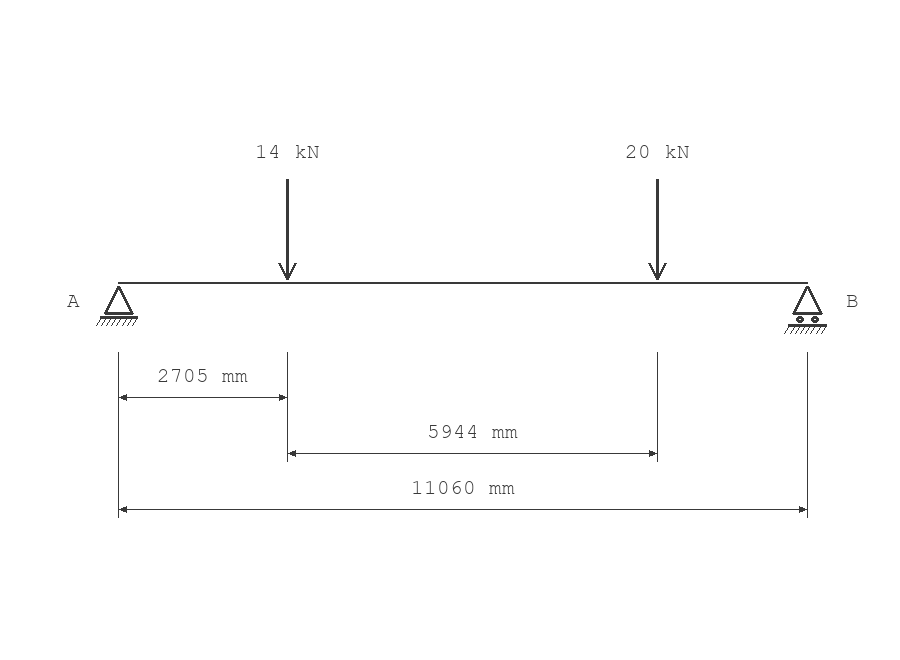pin_support: (96, 286, 138, 326)
point_load: (278, 179, 297, 280), (648, 179, 667, 280)
roller_support: (784, 286, 827, 334)
